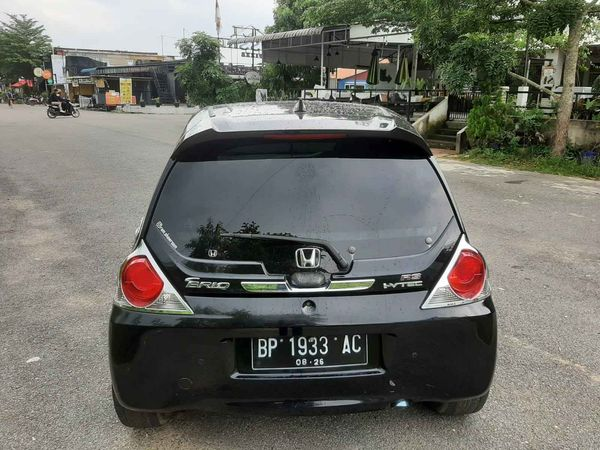plate: (247, 326, 373, 372)
